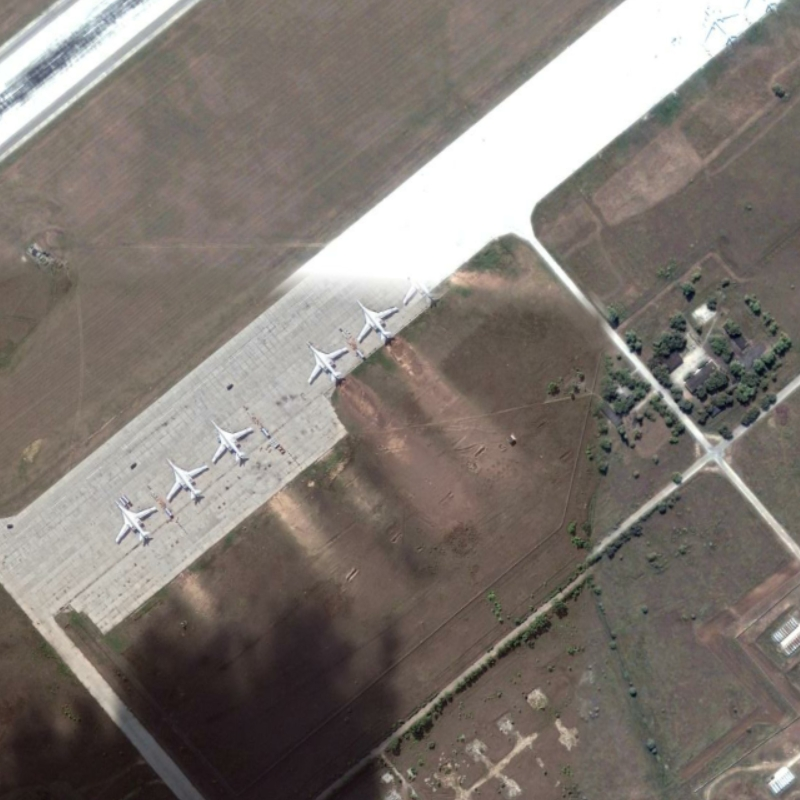A6: (111, 495, 159, 547), (164, 455, 211, 507), (207, 418, 256, 466), (354, 297, 400, 348), (305, 339, 349, 388)
